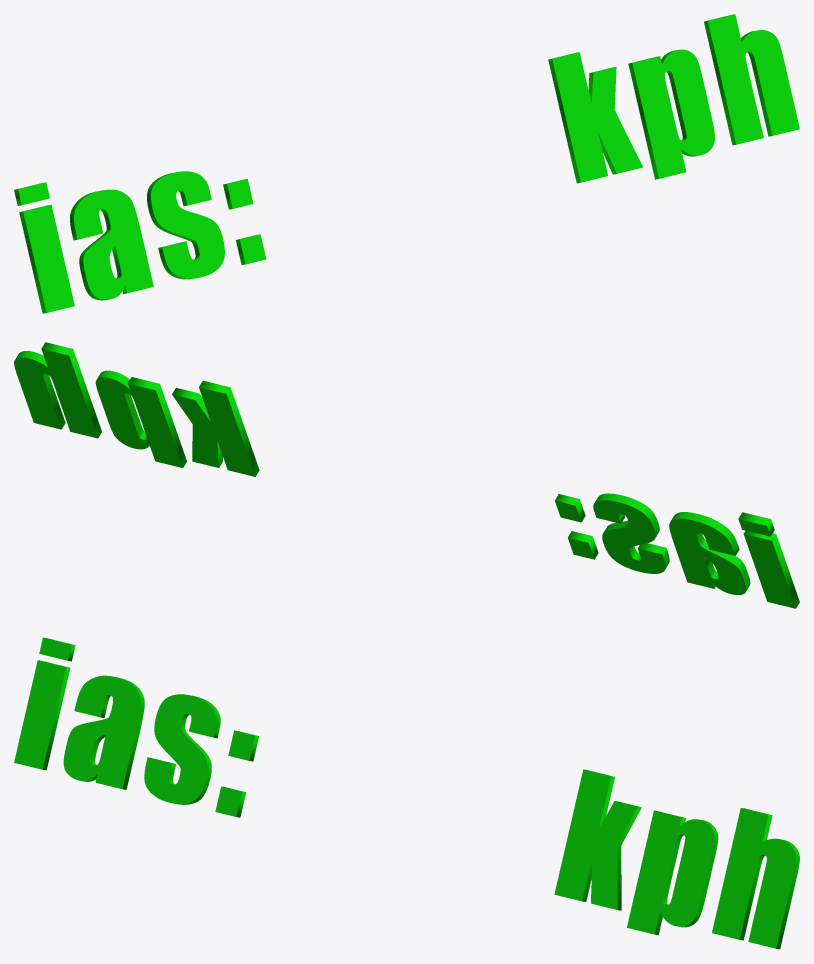
Rendered from ias.obj.
3 views of the same model, one above another, from view 1: azimuth 30°, elevation 25°; view 2: azimuth 150°, elevation 25°; view 3: azimuth 330°, elevation 25° (orthographic).
Visible parts, largest first — view 1: Text; view 2: Text; view 3: Text.
Boxes of the visible parts, bbox=[...] form: Text: bbox=[14, 14, 799, 313]; Text: bbox=[14, 342, 799, 608]; Text: bbox=[14, 637, 799, 949].
Bounding box in the file's own units: 0.0577 × 0.00869 × 0.00478.
